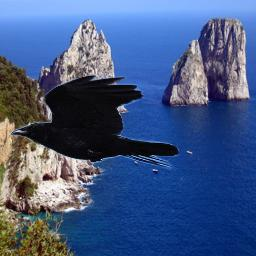Crow: (10, 75, 180, 170)
